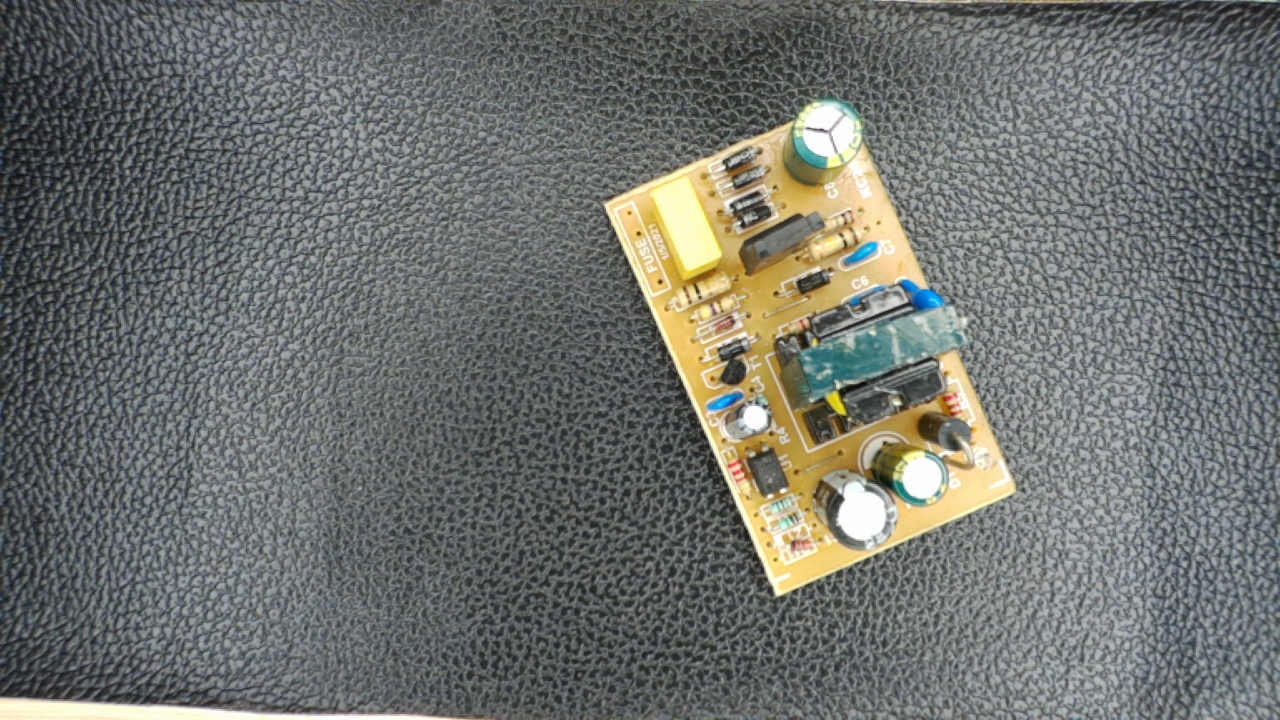hv_capacitor: (783, 99, 863, 188)
mov: (896, 272, 950, 318)
optocoupler: (743, 446, 797, 500)
